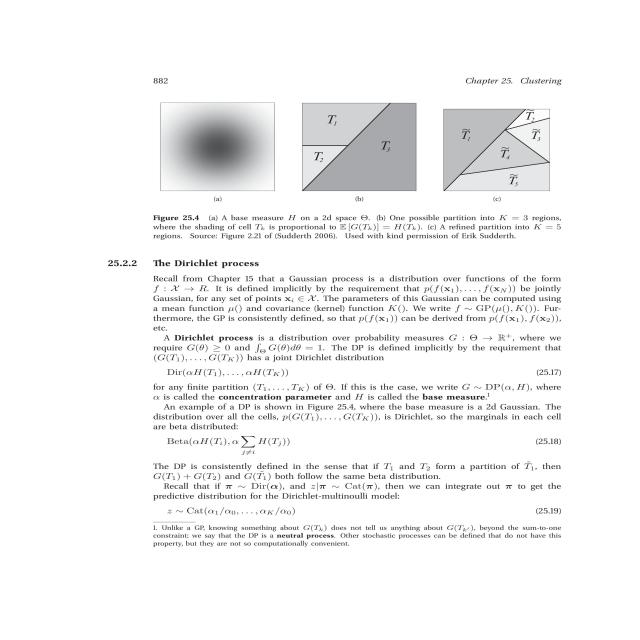diagram: (101, 95, 586, 252)
